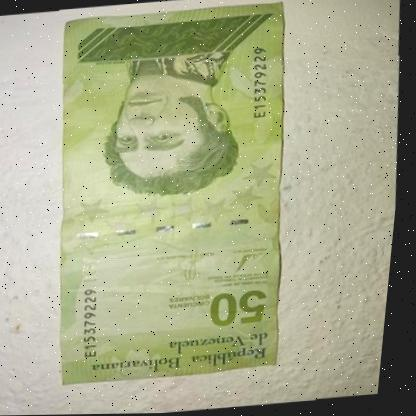fifty-front-vef: (37, 3, 312, 387)
